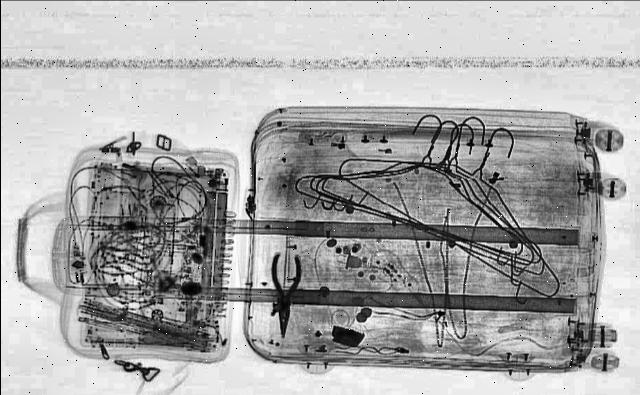Pliers: (266, 254, 304, 336)
